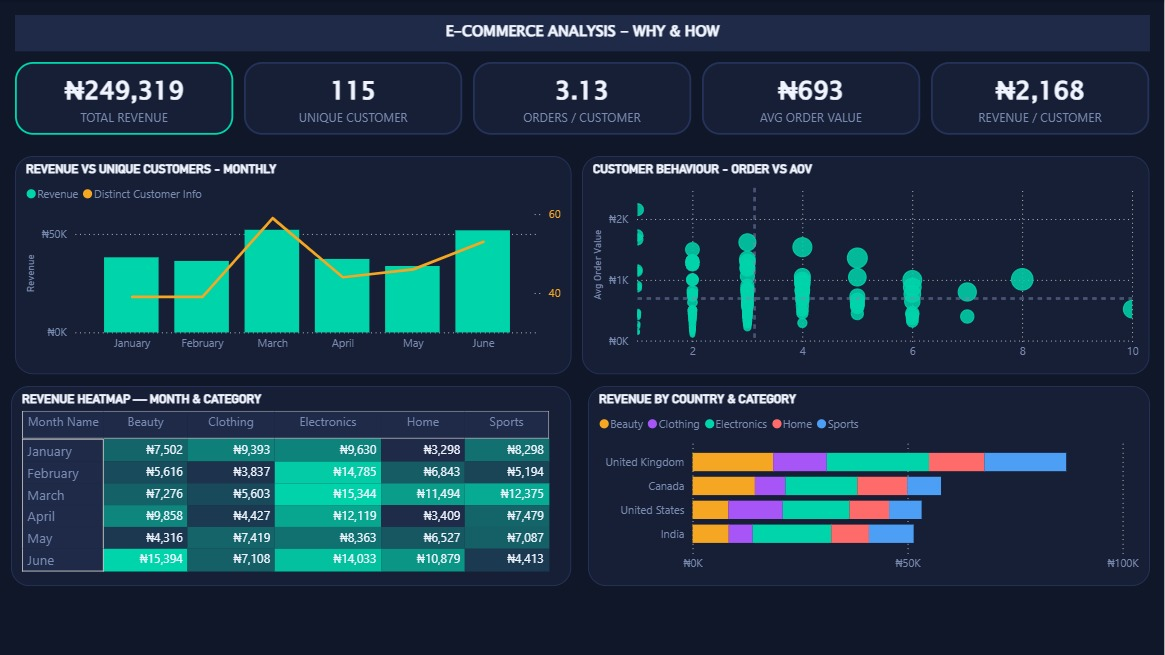

Layout of this report page (visuals, bound fields, positions):
{"tool":"powerbi","page":{"name":"Why & How","canvas":[1280,720],"ordinal":1},"visuals":[{"type":"textbox","box":[16,16,1248,40],"z":0},{"type":"card","fields":{"Values":["_Measure.Revenue"]},"box":[16,68,240,80],"z":1000},{"type":"card","fields":{"Values":["_Measure.Distinct Customer Info"]},"box":[268,68,240,80],"z":2000},{"type":"card","fields":{"Values":["_Measure.Orders per Customer"]},"box":[520,68,239.6,80],"z":3000},{"type":"card","fields":{"Values":["_Measure.Revenue per Customer"]},"box":[1024,67.7,239.6,80],"z":4000},{"type":"card","fields":{"Values":["_Measure.Avg Order Value"]},"box":[772,67.7,239.6,80],"z":5000},{"type":"lineClusteredColumnComboChart","title":"REVENUE VS UNIQUE CUSTOMERS - MONTHLY","fields":{"Category":["Sales.Month Name"],"Y":["_Measure.Revenue"],"Y2":["_Measure.Distinct Customer Info"]},"box":[16,172,612,240],"z":6000},{"type":"scatterChart","title":"CUSTOMER BEHAVIOUR - ORDER VS AOV","fields":{"Category":["Customer_info.CustomerName"],"X":["_Measure.Orders per Customer"],"Y":["_Measure.Avg Order Value"],"Size":["_Measure.Revenue"]},"box":[640,172,624,240],"z":7000},{"type":"pivotTable","title":" REVENUE HEATMAP — MONTH & CATEGORY","fields":{"Rows":["Sales.Month Name"],"Columns":["Products.Category"],"Values":["_Measure.Revenue"]},"box":[12.5,424,615.6,219.9],"z":8000},{"type":"barChart","title":"REVENUE BY COUNTRY & CATEGORY","fields":{"Category":["Customer_info.Country"],"Y":["_Measure.Revenue"],"Series":["Products.Category"]},"box":[646.2,424,617.9,219.9],"z":9000}]}

Visuals, with their boxes in screenshot pixels (x1, y1, x2, y2), scaled from the page's 1280x720 canvas onto the 1165x655 screenshot:
textbox: detection(15, 15, 1150, 51)
card - _Measure.Revenue: detection(15, 62, 233, 135)
card - _Measure.Distinct Customer Info: detection(244, 62, 462, 135)
card - _Measure.Orders per Customer: detection(473, 62, 691, 135)
card - _Measure.Revenue per Customer: detection(932, 62, 1150, 134)
card - _Measure.Avg Order Value: detection(703, 62, 921, 134)
"REVENUE VS UNIQUE CUSTOMERS - MONTHLY" lineClusteredColumnComboChart: detection(15, 156, 572, 375)
"CUSTOMER BEHAVIOUR - ORDER VS AOV" scatterChart: detection(582, 156, 1150, 375)
" REVENUE HEATMAP — MONTH & CATEGORY" pivotTable: detection(11, 386, 572, 586)
"REVENUE BY COUNTRY & CATEGORY" barChart: detection(588, 386, 1151, 586)
